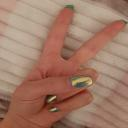PeaceSign: (11, 4, 128, 125)
